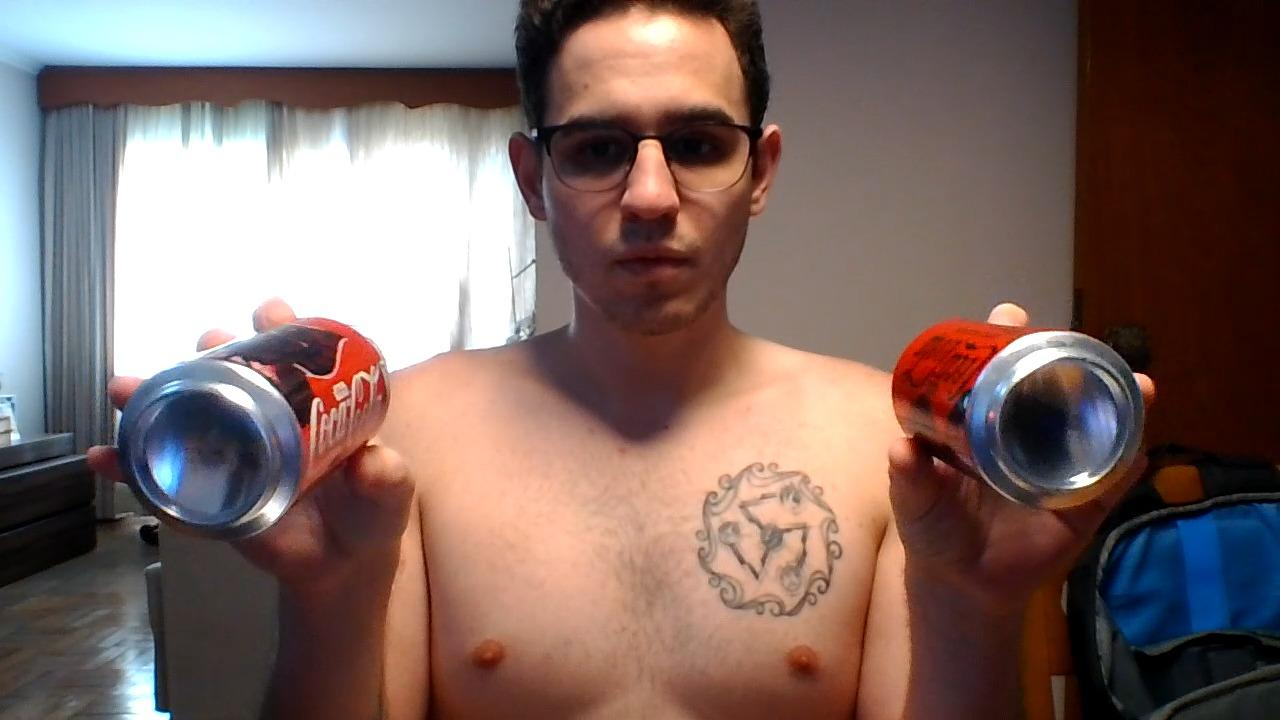coke: (113, 316, 391, 537), (894, 317, 1145, 506)
